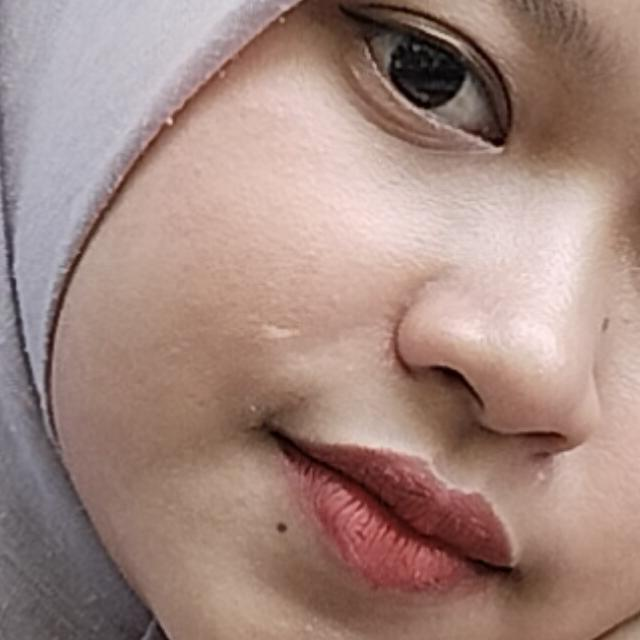tidur: (16, 218, 640, 640)
